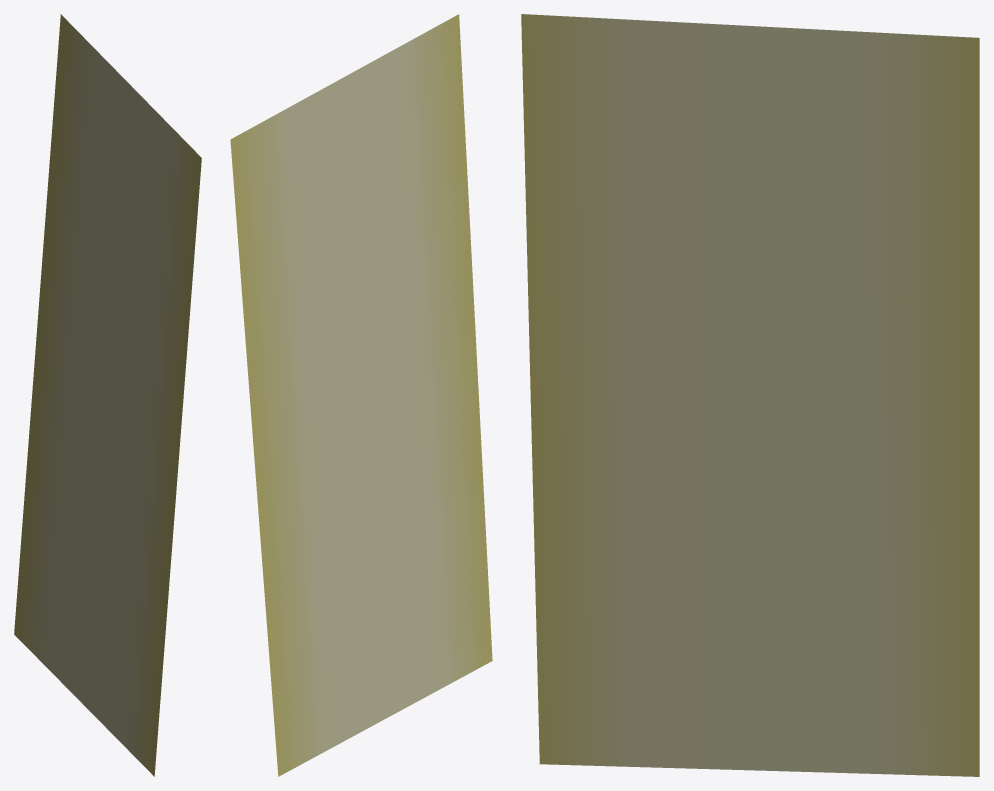
The model's file is WindowRight3.glb.
The picture shows the model from 3 angles, left to right: view 1: azimuth 30°, elevation 25°; view 2: azimuth 150°, elevation 25°; view 3: azimuth 270°, elevation 25°; orthographic projection. The views are drawn at different scales.
Parts seen in each view (by area): view 1: WindowRight3; view 2: WindowRight3; view 3: WindowRight3.
Boxes of the visible parts, x1=… form: WindowRight3: x1=14, y1=14, x2=201, y2=776; WindowRight3: x1=230, y1=14, x2=492, y2=776; WindowRight3: x1=521, y1=14, x2=979, y2=776.
Bounding box in the file's own units: 0.1754 × 1.28 × 0.6848.
